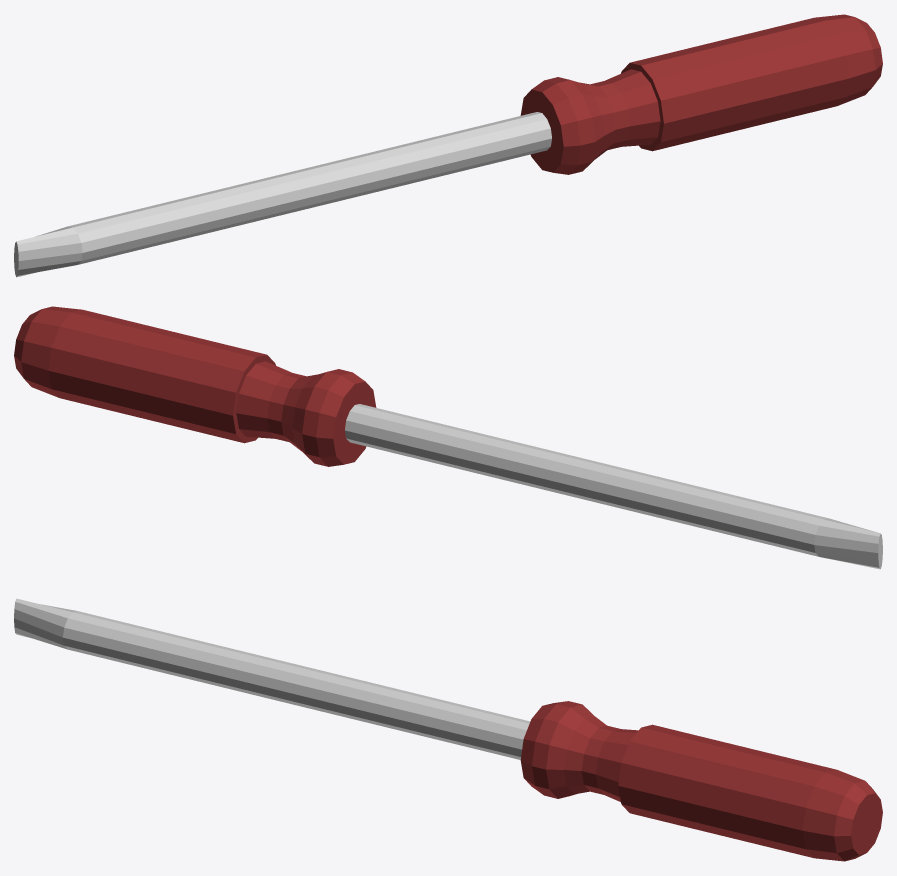
The model's file is screw_driver1.glb.
3 views of the same model, one above another, from view 1: azimuth 30°, elevation 25°; view 2: azimuth 150°, elevation 25°; view 3: azimuth 330°, elevation 25° (orthographic).
Parts seen in each view (by area): view 1: Cylinder.001; view 2: Cylinder.001; view 3: Cylinder.001.
Boxes of the visible parts, x1=… form: Cylinder.001: x1=14, y1=14, x2=882, y2=277; Cylinder.001: x1=14, y1=306, x2=882, y2=569; Cylinder.001: x1=14, y1=598, x2=882, y2=861.
Size of the model in its own units: 4.55 by 0.4525 by 0.4525.
1 material, 1 textured.
